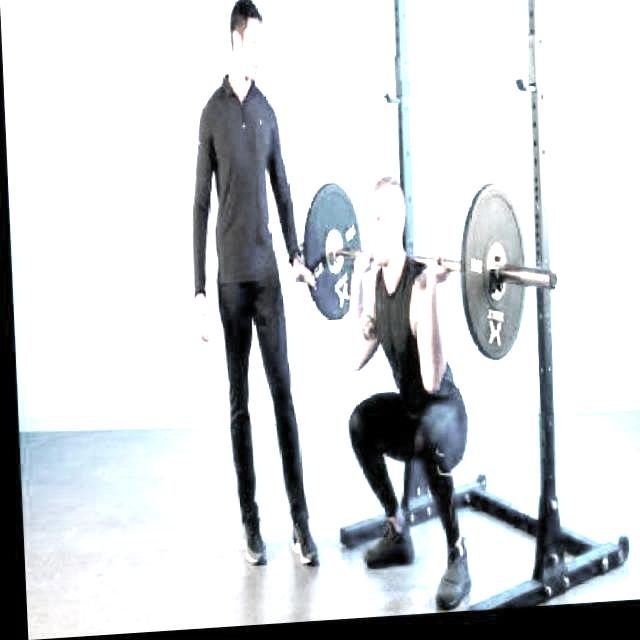barbell: (455, 182, 562, 372)
